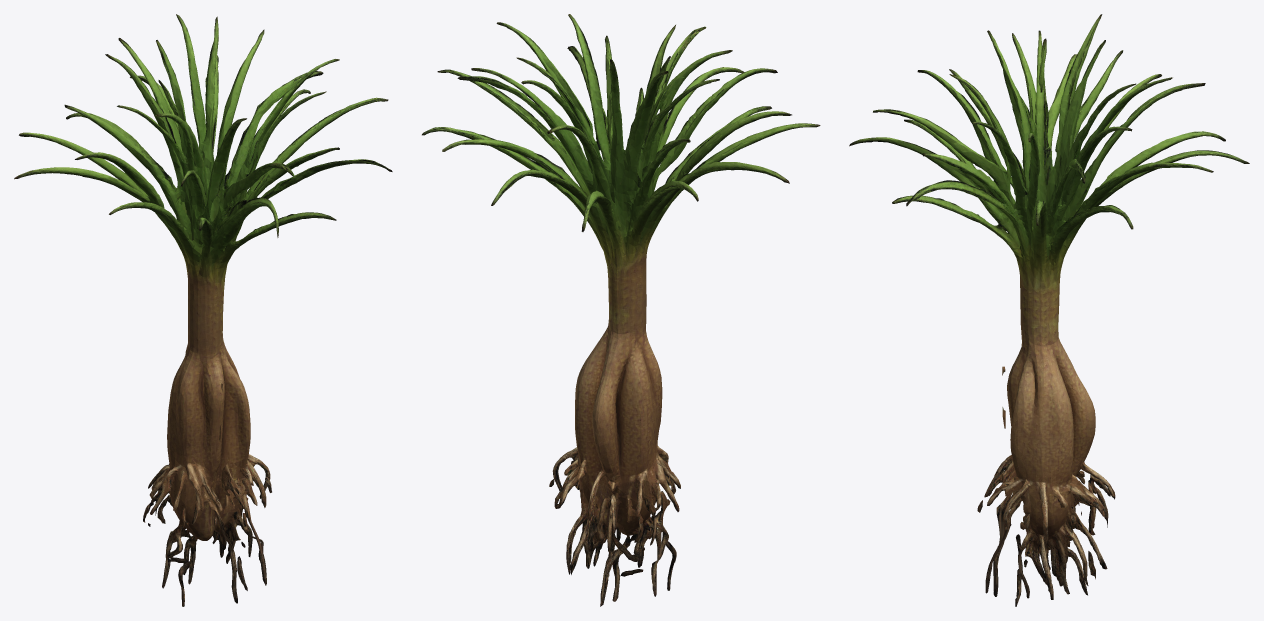
3 renders of one model, left to right at view 1: azimuth 30°, elevation 25°; view 2: azimuth 150°, elevation 25°; view 3: azimuth 270°, elevation 25°, orthographic. The views are drawn at different scales.
Visible parts, largest first — view 1: geometry_0; view 2: geometry_0; view 3: geometry_0.
Part boxes in pixels (x1,y1,x2,y2): geometry_0: (14,14,392,606); geometry_0: (422,14,820,606); geometry_0: (849,14,1249,606).
Bounding box in the file's own units: 0.1254 × 0.18 × 0.1196.
4 materials, 4 textured.
